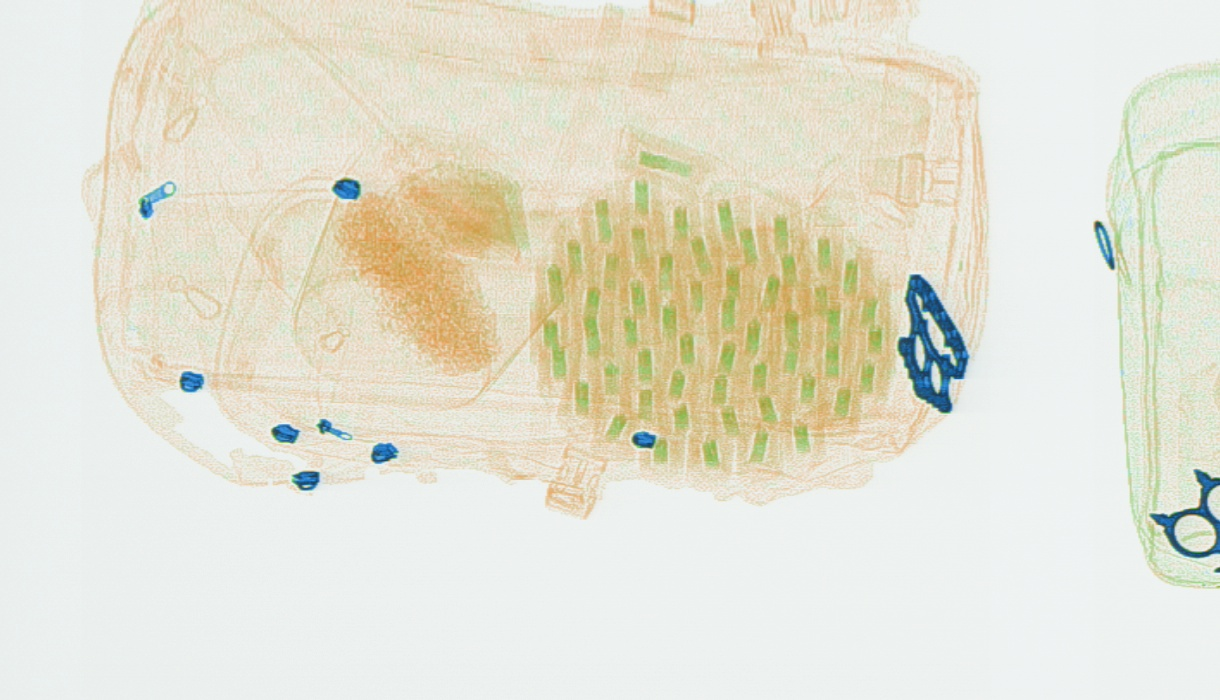firecrackers: (531, 139, 902, 485)
